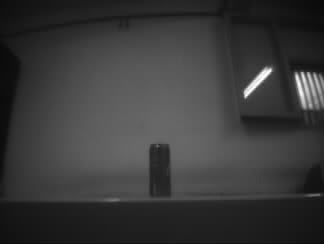Tin can: (147, 142, 171, 197)
